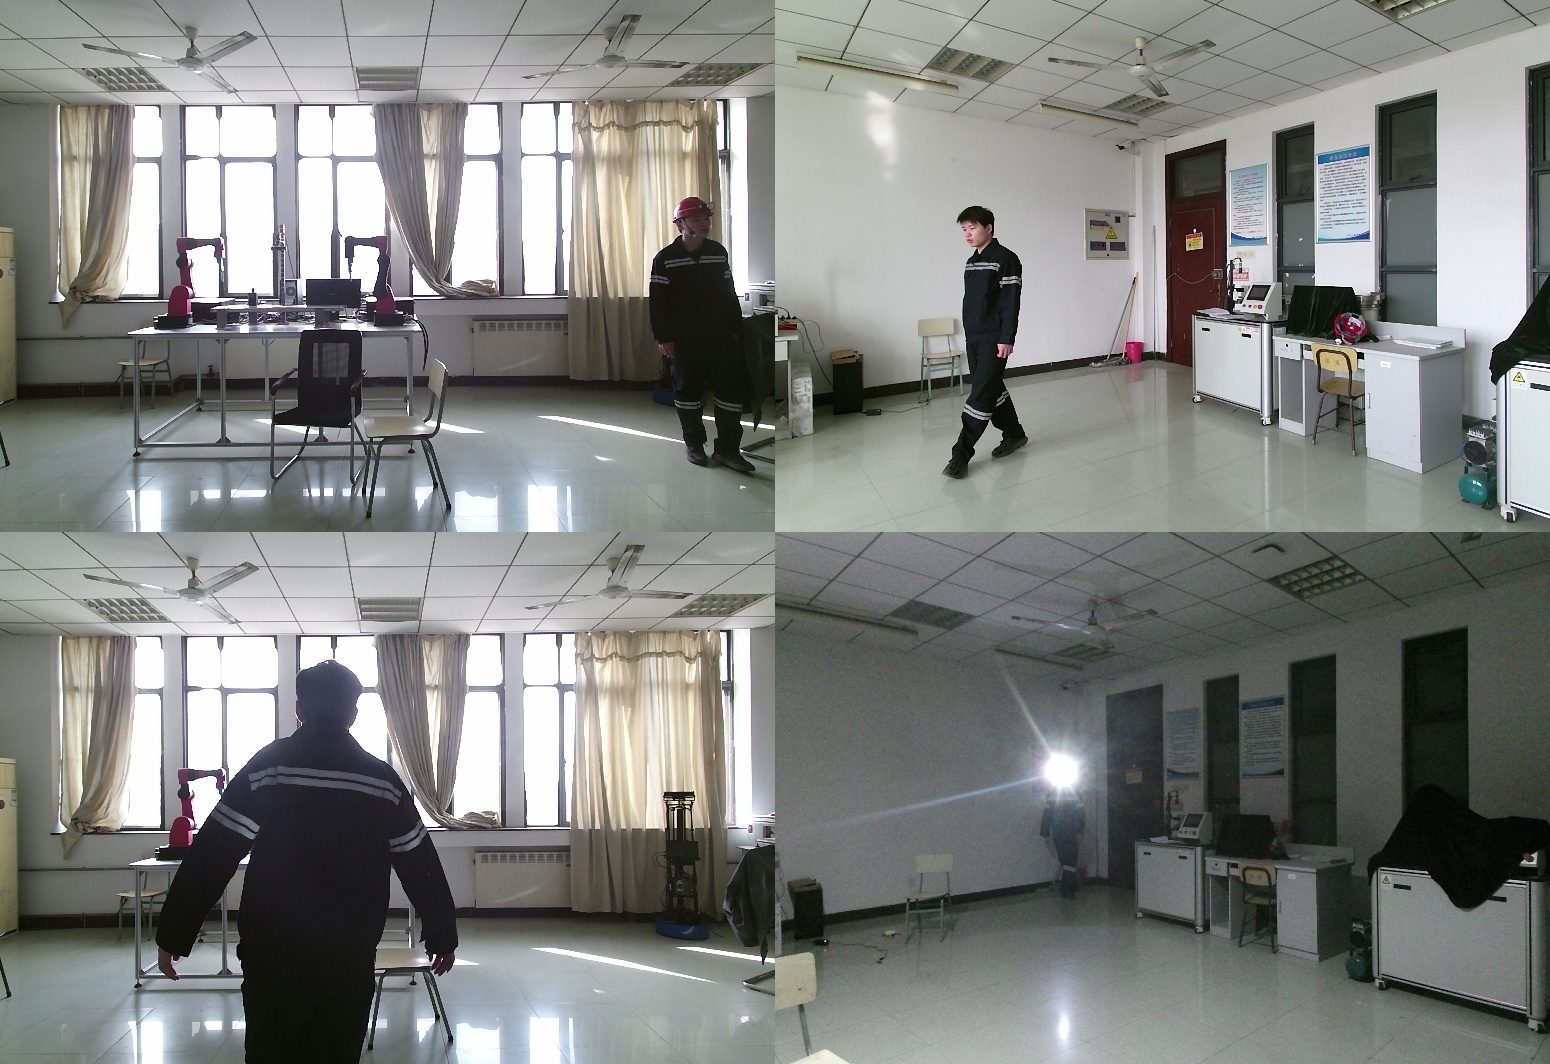person: (155, 662, 459, 1064), (651, 199, 757, 470), (943, 207, 1035, 477), (1038, 769, 1087, 900)
